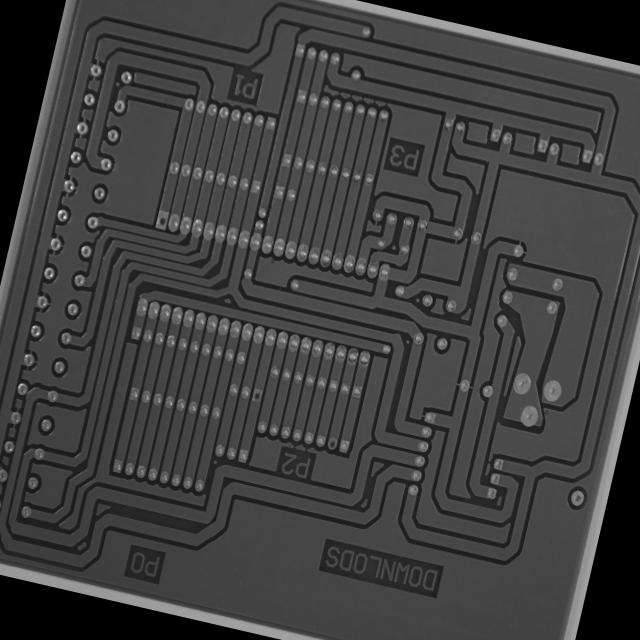missing_hole: (153, 209, 170, 233), (249, 386, 265, 404), (324, 434, 340, 452)
